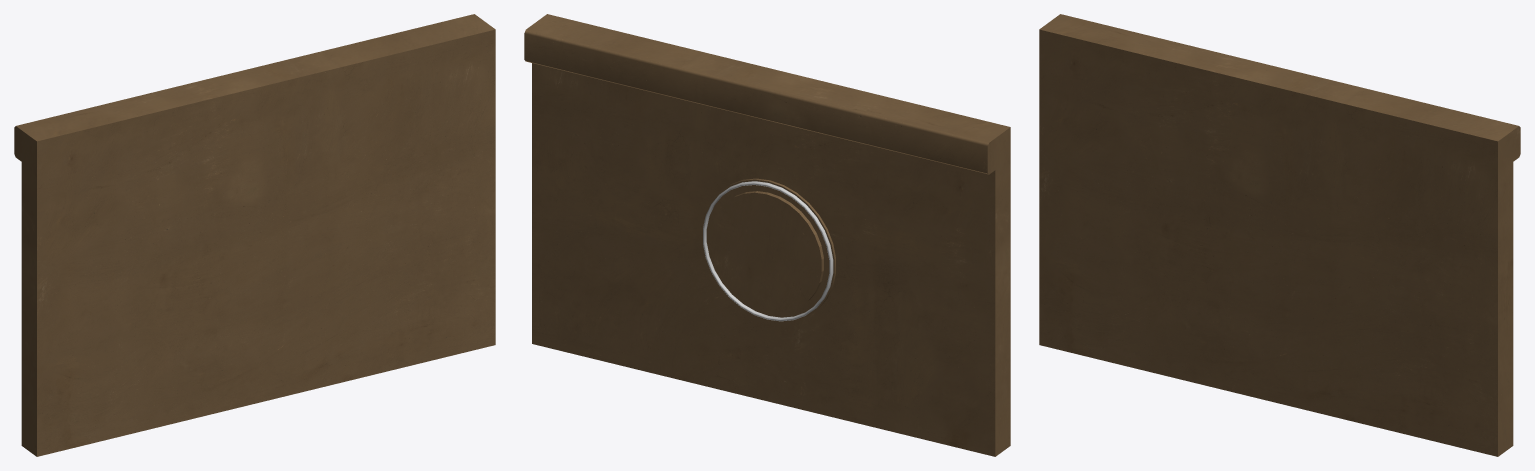
File: SM_Building01WallRoof02R.fbx
3 renders of one model, left to right at view 1: azimuth 30°, elevation 25°; view 2: azimuth 150°, elevation 25°; view 3: azimuth 330°, elevation 25°, orthographic.
Visible parts, largest first — view 1: SM_Building01WallRoof02R_LOD0; view 2: SM_Building01WallRoof02R_LOD0; view 3: SM_Building01WallRoof02R_LOD0.
Boxes of the visible parts, left/top/right/bottom form: SM_Building01WallRoof02R_LOD0: left=14, top=14, right=495, bottom=456; SM_Building01WallRoof02R_LOD0: left=524, top=14, right=1010, bottom=456; SM_Building01WallRoof02R_LOD0: left=1039, top=14, right=1520, bottom=456.
Bounding box in the file's own units: 350 × 30 × 230.
Materials: 3 (2 with a texture image).
